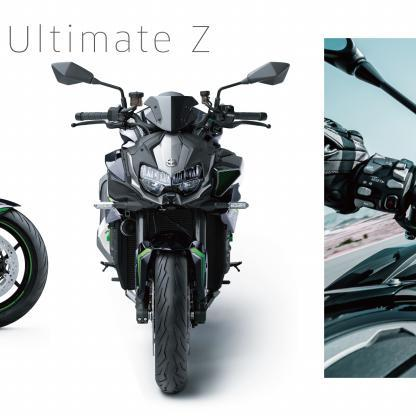Motorcycle: (40, 50, 312, 402)
